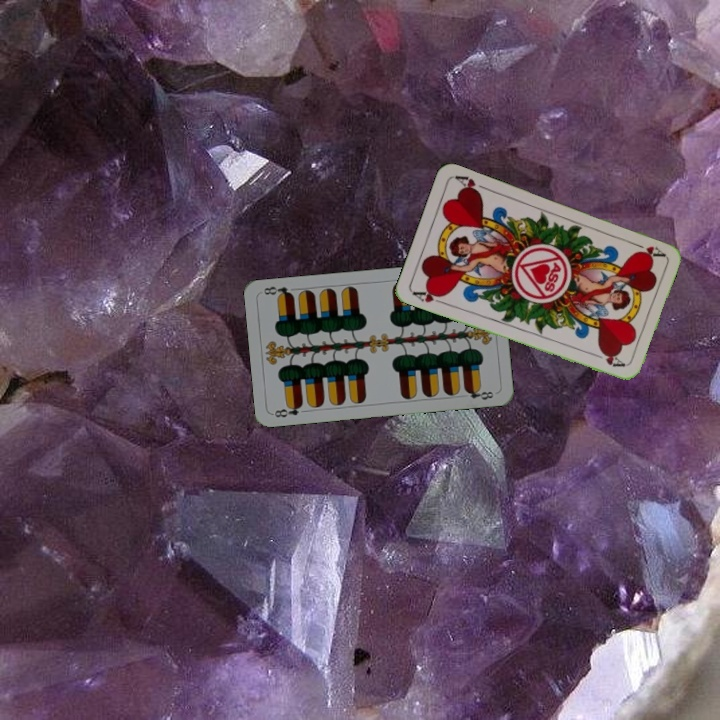E8: (271, 400, 305, 420)
HA: (409, 285, 448, 307), (627, 238, 667, 259)
